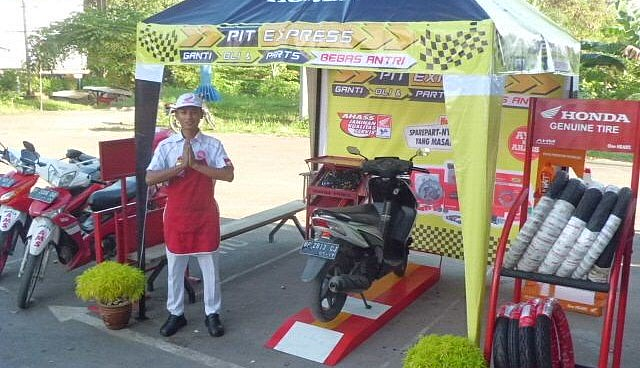plate: (298, 238, 339, 261)
